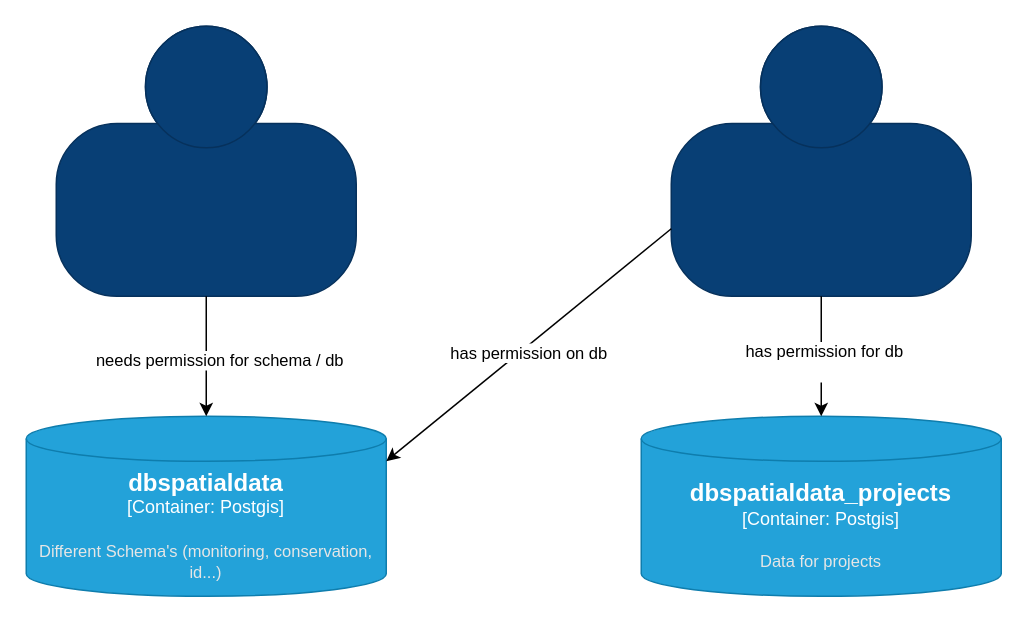
This 1028x623 diagram has some shape labels left out. Here are the shapes that lost their labels. From the top down, the box of each, then its label:
(55, 25, 356, 296): Microsoft Azure AD user [Person] Windows Login User
(670, 25, 971, 296): Special User Account [Person] Seperate Login / Password
